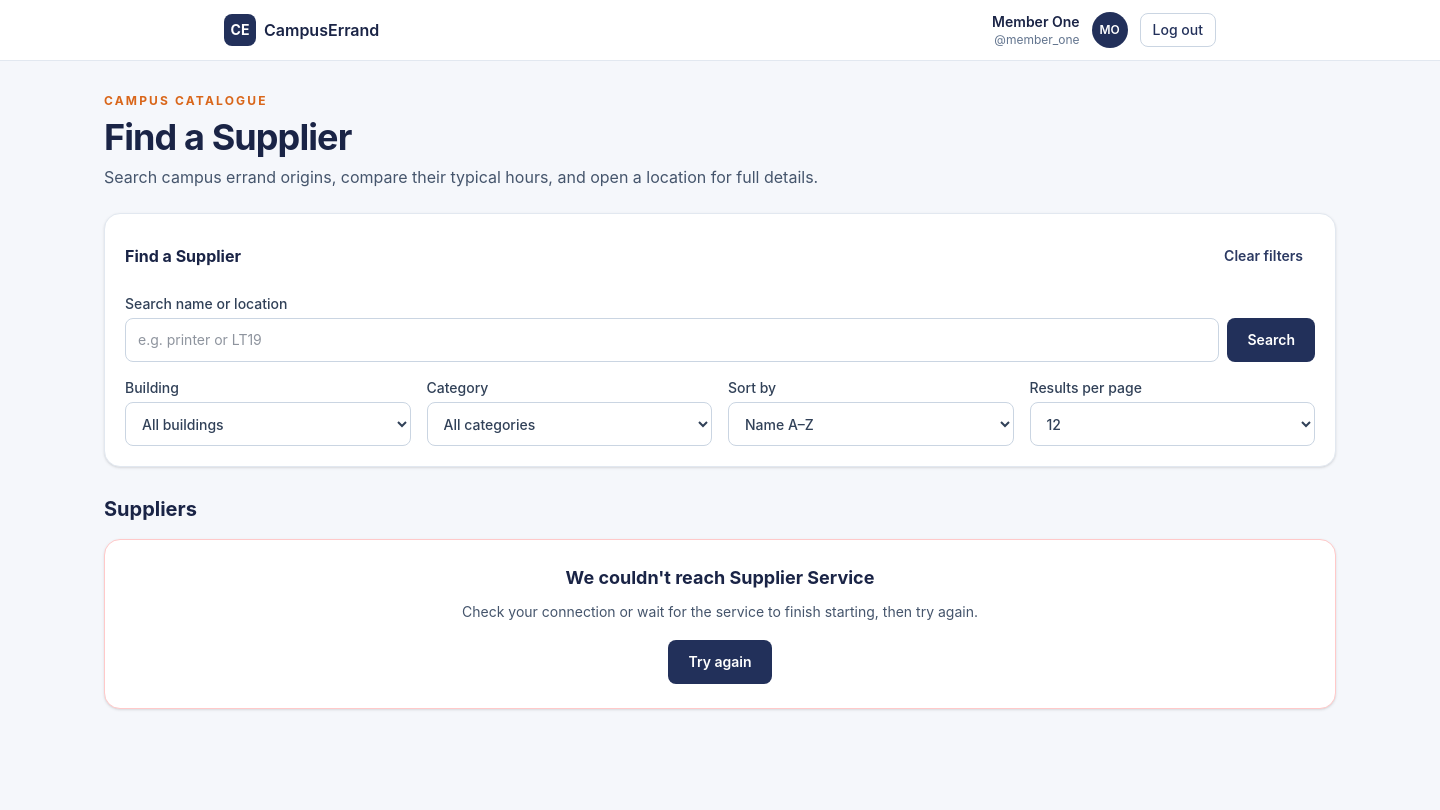
it: Supplier member catalogue › shows an empty state and a retryable network state
Expected: the heading "We couldn't reach Supplier Service" is shown, [566, 567, 874, 588]
What coordinates should you click on to do the following:
click the button "Try again"
I would click on:
 (720, 662)
Its box is [668, 640, 772, 684].
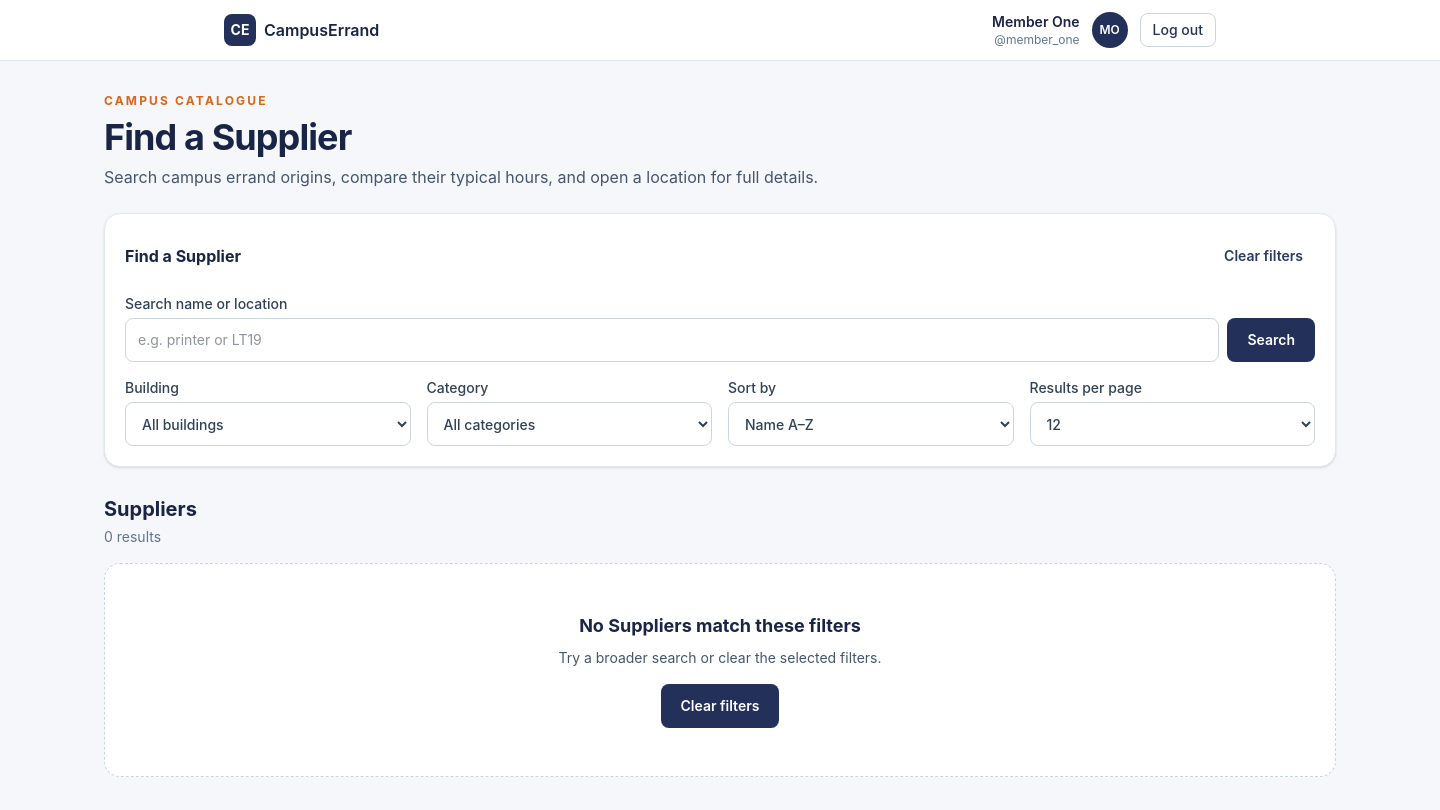
Result: the heading "No Suppliers match these filters" is shown at [579, 615, 861, 636]
